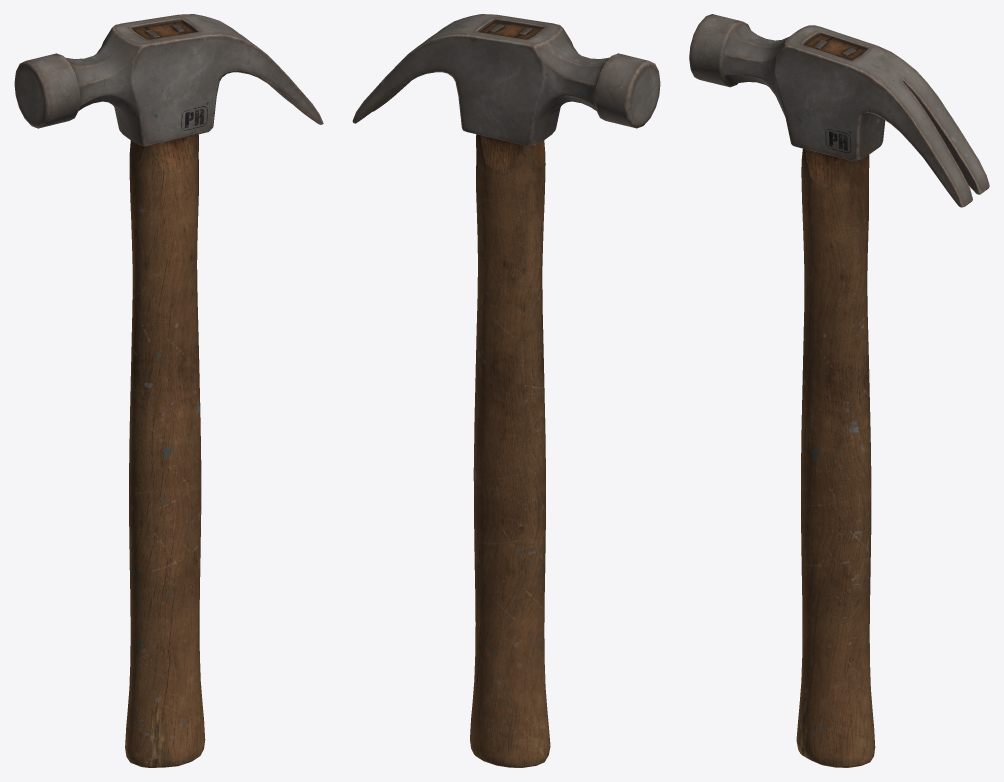
3 views of the same model, side by side, from view 1: azimuth 30°, elevation 25°; view 2: azimuth 150°, elevation 25°; view 3: azimuth 330°, elevation 25° (orthographic). The views are drawn at different scales.
Parts seen in each view (by area): view 1: body, head; view 2: body, head; view 3: body, head.
Boxes of the visible parts, x1,y1,x2,y2 form: body: (125, 21, 205, 767); head: (14, 14, 323, 146); body: (470, 21, 550, 767); head: (352, 14, 660, 146); body: (796, 34, 875, 767); head: (689, 14, 989, 207).
Size of the model in its own units: 0.1118 by 0.2792 by 0.0234.
1 material, 1 textured.
